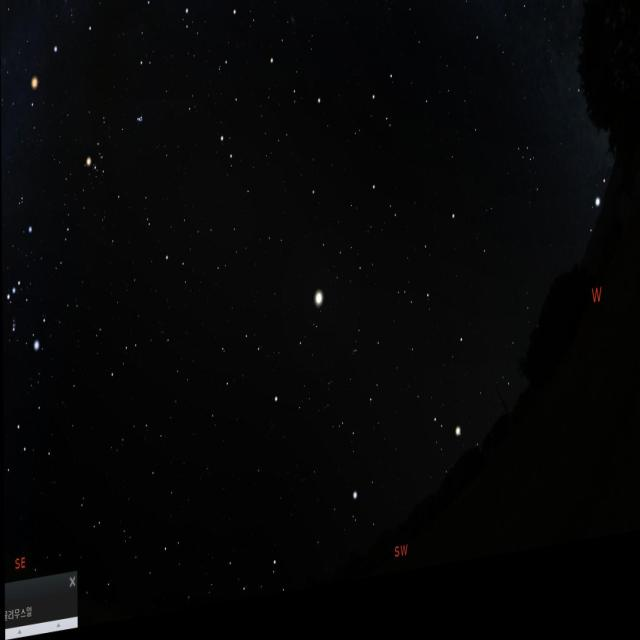cygnus: (470, 0, 594, 23)
orion: (1, 188, 43, 377)
pleiades: (132, 113, 148, 141)
taurus: (83, 106, 152, 234)
